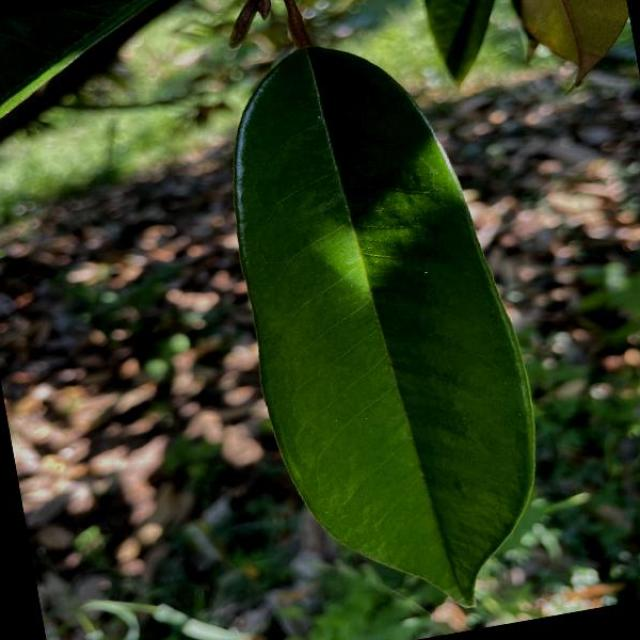No Disease: (193, 8, 577, 640)
